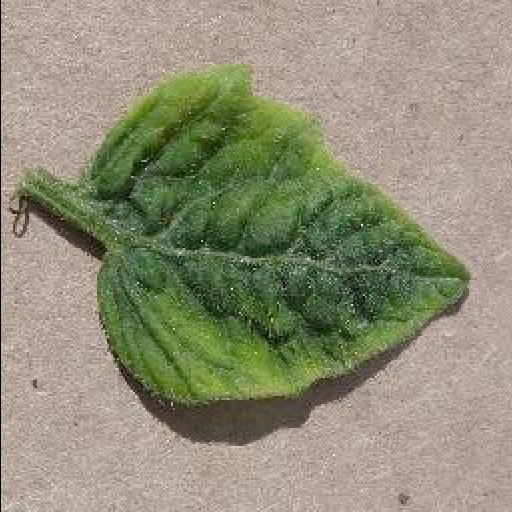disease_tomato: (80, 66, 468, 410)
